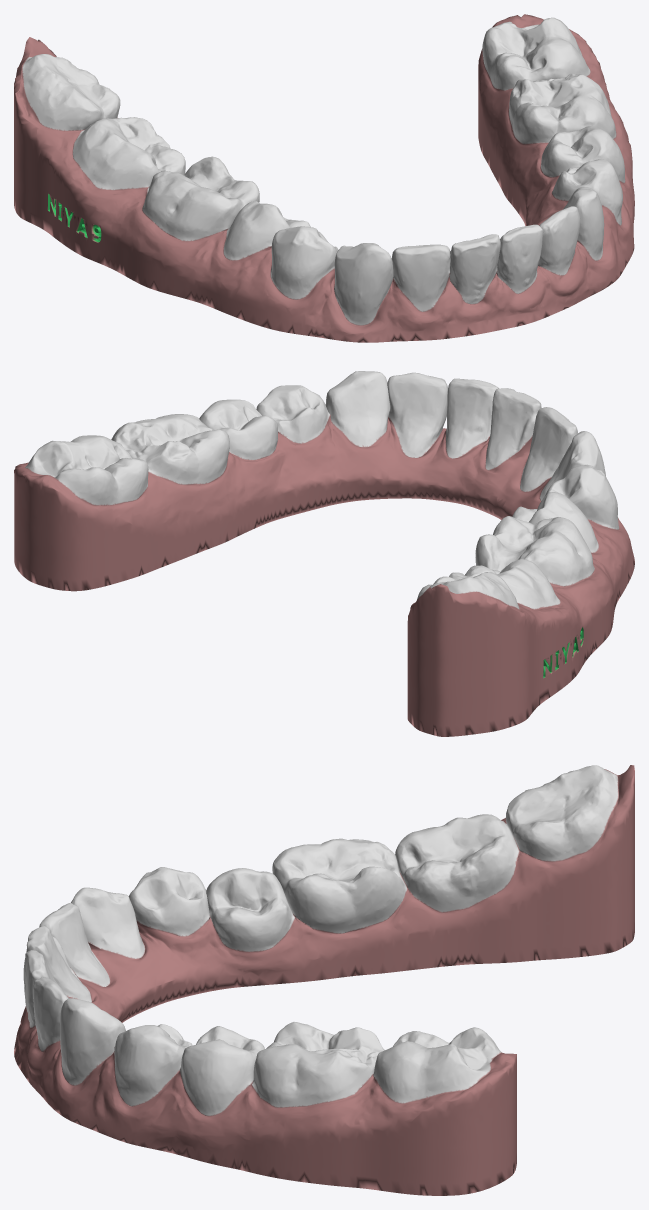
The model's file is Niya Priority Lower jaw - 09 - Model.glb.
The picture shows the model from 3 angles, top to bottom: view 1: azimuth 30°, elevation 25°; view 2: azimuth 150°, elevation 25°; view 3: azimuth 270°, elevation 25°; orthographic projection. The views are drawn at different scales.
Parts seen in each view (by area): view 1: Niya Priority Lower jaw - 09 - Model; view 2: Niya Priority Lower jaw - 09 - Model; view 3: Niya Priority Lower jaw - 09 - Model.
Part boxes in pixels (<box>): Niya Priority Lower jaw - 09 - Model: <box>14,14,634,342</box>; Niya Priority Lower jaw - 09 - Model: <box>14,371,634,736</box>; Niya Priority Lower jaw - 09 - Model: <box>14,765,634,1195</box>.
Bounding box in the file's own units: 62.72 × 16.53 × 56.55.
